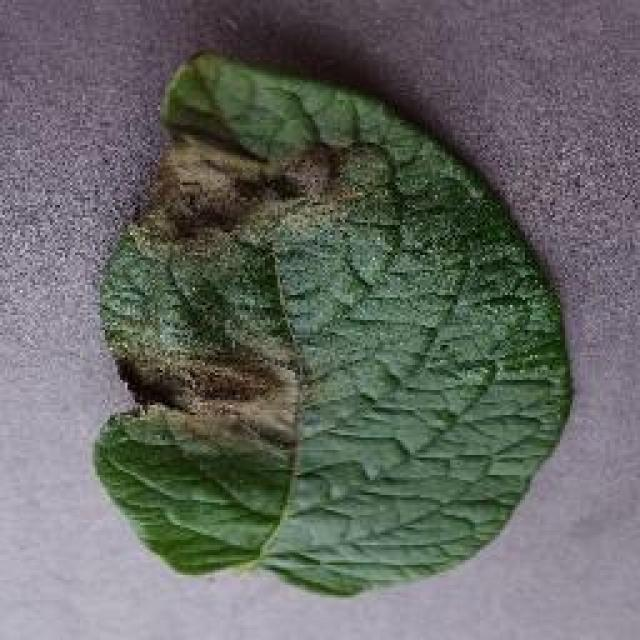late_blight: (88, 45, 578, 600)
